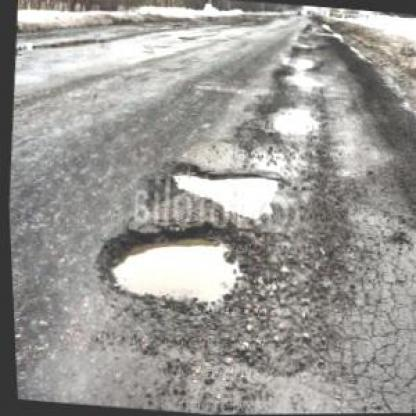pothole: (89, 208, 259, 316), (160, 157, 286, 223), (269, 101, 320, 140), (280, 70, 320, 88), (283, 54, 316, 69)
